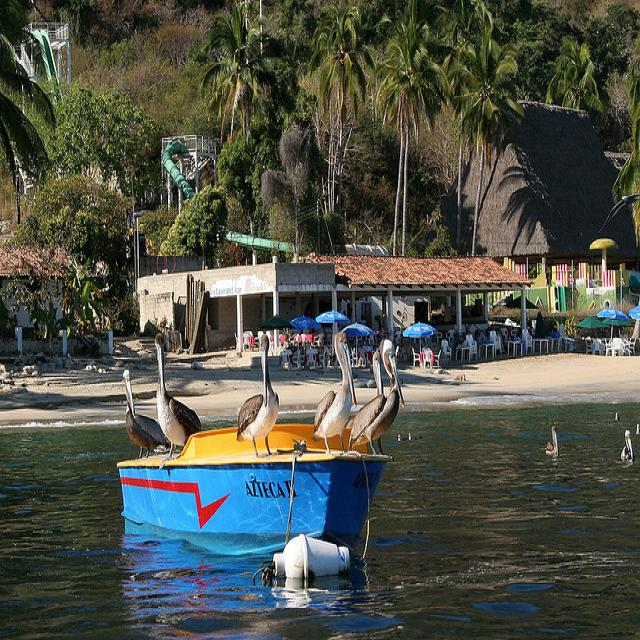chair: (240, 321, 606, 376), (431, 349, 442, 369), (441, 340, 451, 362), (306, 349, 316, 369), (490, 332, 501, 350), (605, 338, 615, 357), (412, 347, 421, 368), (423, 349, 432, 369), (470, 341, 477, 361), (629, 337, 636, 354), (586, 340, 593, 355), (504, 331, 507, 353), (270, 331, 274, 342)
dining table: (455, 344, 471, 363), (479, 343, 496, 359), (357, 346, 371, 359), (611, 340, 630, 347), (423, 351, 434, 353)
